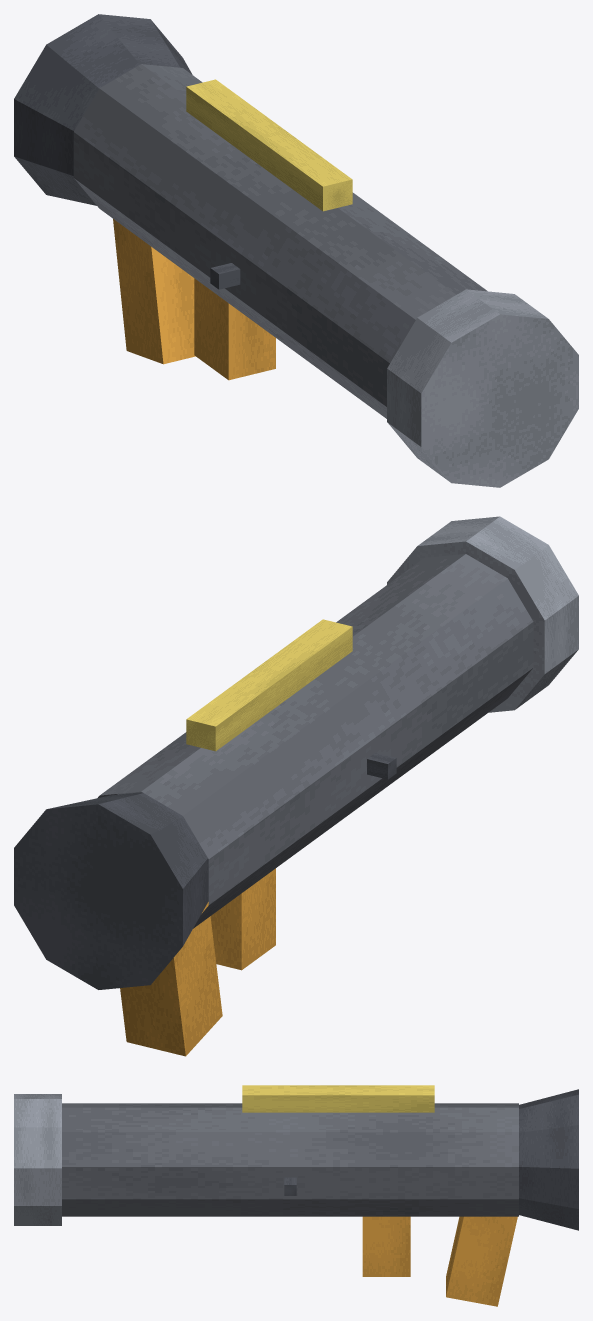
File: weapon_rocket.glb
3 views of the same model, one above another, from view 1: azimuth 30°, elevation 25°; view 2: azimuth 150°, elevation 25°; view 3: azimuth 270°, elevation 25° (orthographic). The views are drawn at different scales.
Visible parts, largest first — view 1: weapon_rocket; view 2: weapon_rocket; view 3: weapon_rocket.
Part boxes in pixels (<box>): weapon_rocket: <box>14,14,578,487</box>; weapon_rocket: <box>14,516,578,1056</box>; weapon_rocket: <box>14,1085,578,1306</box>.
Bounding box in the file's own units: 0.6 × 0.9473 × 2.35.
1 material, 1 textured.
